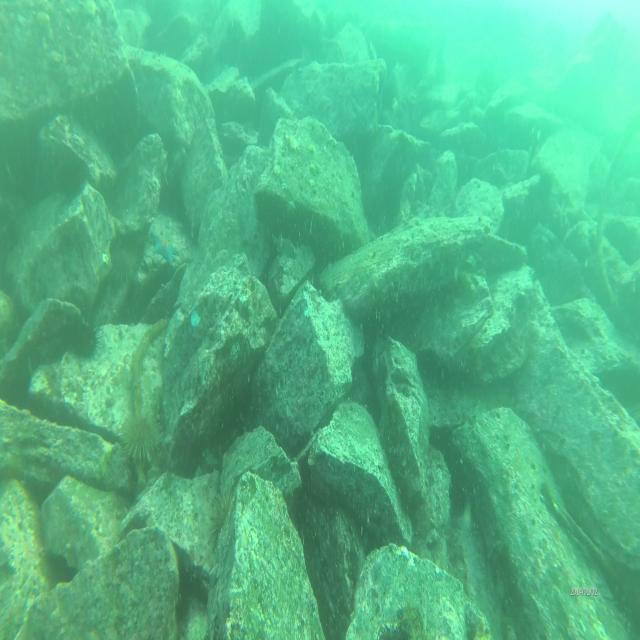echinus: (120, 417, 162, 467), (208, 494, 234, 542)
starfish: (150, 227, 178, 264)
